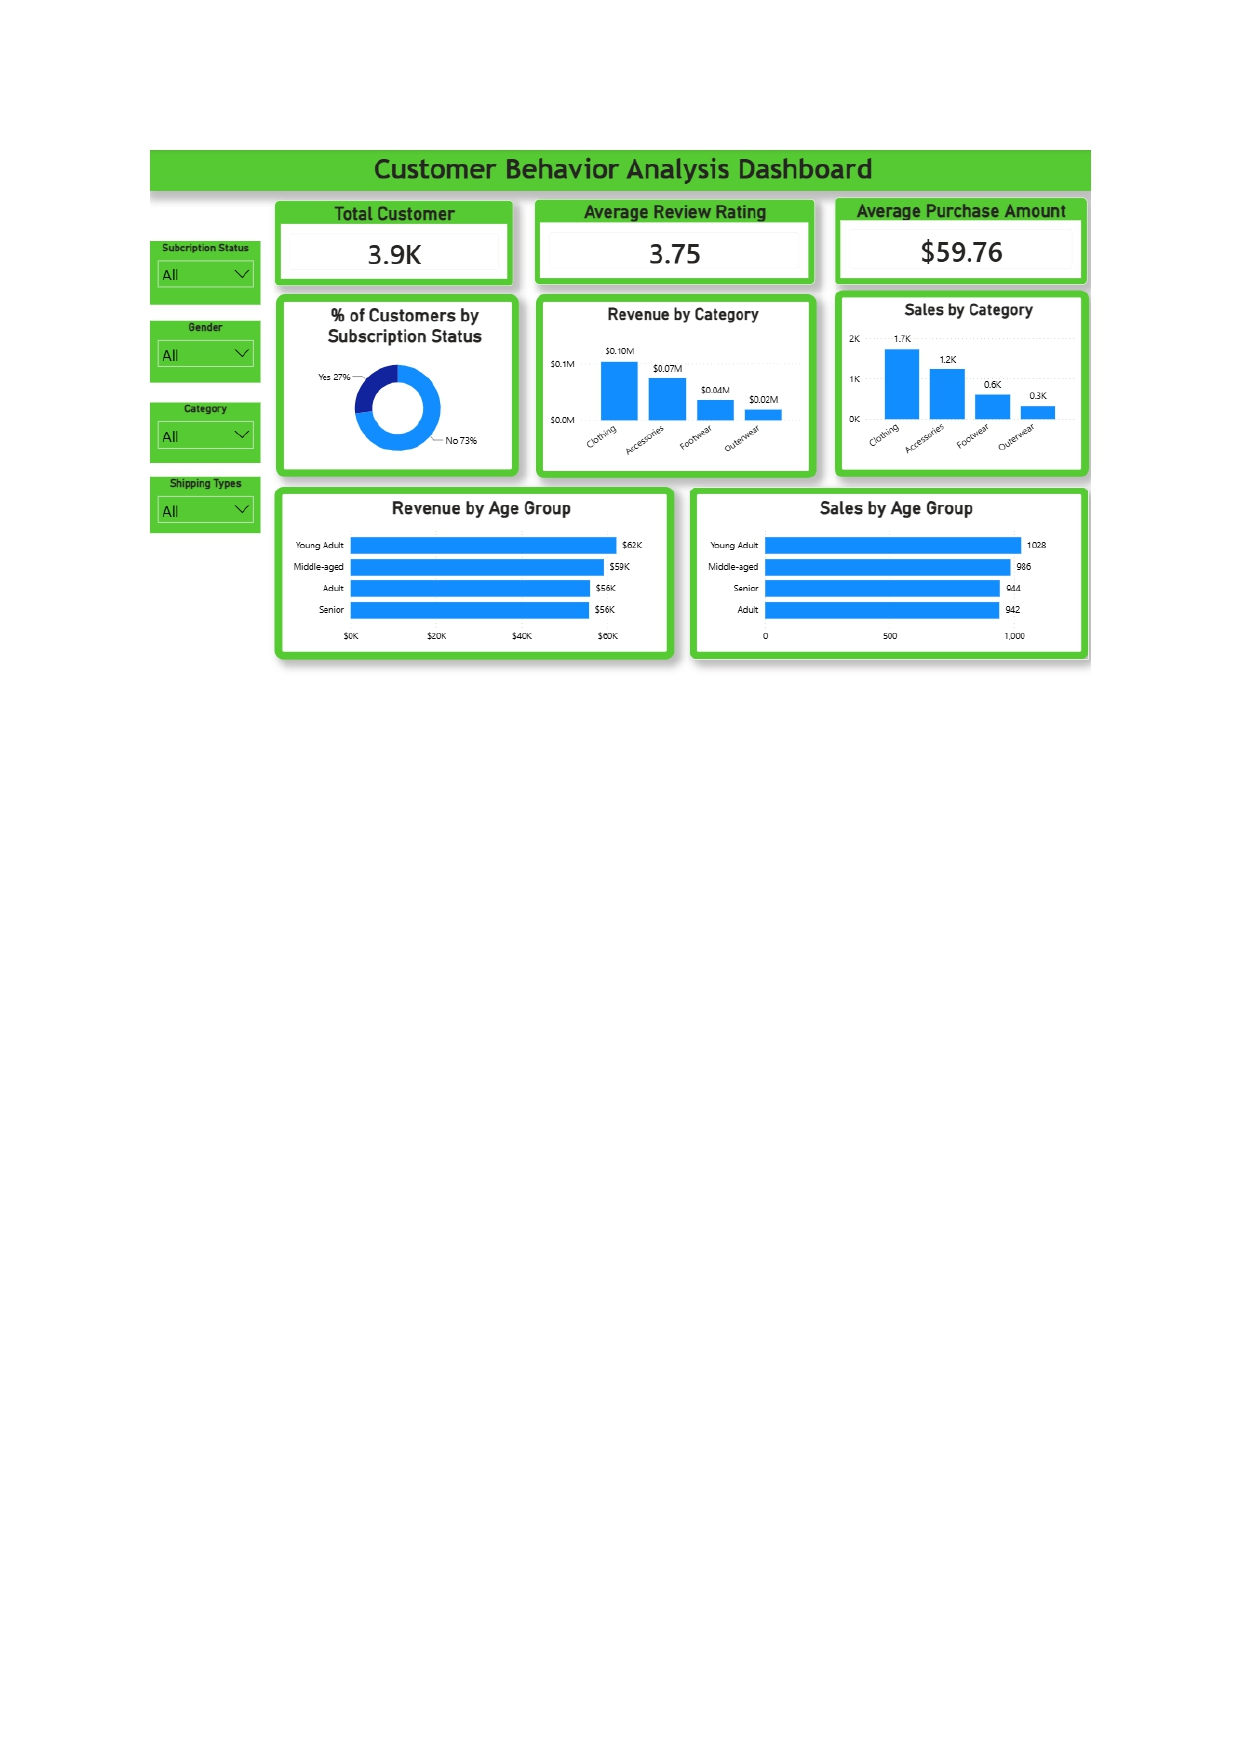

This screenshot's page, from the dashboard's own definition file:
{"tool":"powerbi","page":{"name":"Page 1","canvas":[1280,720],"ordinal":0},"visuals":[{"type":"textbox","box":[0,0,1279.4,56.7],"z":0},{"type":"cardVisual","title":"Total Customer","fields":{"Data":["Count(customer_behavior customer.customer_id)"]},"box":[168.2,69.9,323.2,115.3],"z":1000},{"type":"cardVisual","title":"Average Review Rating","fields":{"Data":["Avg(customer_behavior customer.review_rating)"]},"box":[519.7,68,379.8,115.3],"z":2000},{"type":"cardVisual","title":"Average Purchase Amount","fields":{"Data":["Avg(customer_behavior customer.purchase_amount)"]},"box":[926,66.1,342,117.2],"z":3000},{"type":"donutChart","title":"% of Customers by Subscription Status","fields":{"Category":["customer_behavior customer.subscription_status"],"Y":["CountNonNull(customer_behavior customer.customer_id)"]},"box":[170.1,196.5,328.8,247.6],"z":4000},{"type":"columnChart","title":"Revenue by Category","fields":{"Category":["customer_behavior customer.category"],"Y":["Sum(customer_behavior customer.purchase_amount)"]},"box":[521.6,196.5,379.8,249.5],"z":5000},{"type":"columnChart","title":"Sales by Category","fields":{"Category":["customer_behavior customer.category"],"Y":["CountNonNull(customer_behavior customer.customer_id)"]},"box":[926,190.9,343.9,253.2],"z":6000},{"type":"clusteredBarChart","title":"Revenue by Age Group","fields":{"Category":["customer_behavior customer.age_group"],"Y":["Sum(customer_behavior customer.purchase_amount)"]},"box":[168.2,457.3,540.5,232.4],"z":7000},{"type":"clusteredBarChart","title":"Sales by Age Group","fields":{"Category":["customer_behavior customer.age_group"],"Y":["CountNonNull(customer_behavior customer.customer_id)"]},"box":[729.5,457.3,540.5,232.4],"z":8000},{"type":"slicer","title":"Subcription Status","fields":{"Values":["customer_behavior customer.subscription_status"]},"box":[0,124.7,149.3,85],"z":9000},{"type":"slicer","title":"Gender","fields":{"Values":["customer_behavior customer.gender"]},"box":[0,232.4,149.3,83.2],"z":10000},{"type":"slicer","title":"Category","fields":{"Values":["customer_behavior customer.category"]},"box":[0,342,149.3,81.3],"z":11000},{"type":"slicer","title":"Shipping Types","fields":{"Values":["customer_behavior customer.shipping_type"]},"box":[0,444.1,149.3,75.6],"z":12000}]}

Visuals, with their boxes on the page's 1280x720 design canvas (x1, y1, x2, y2). These are canvas units, not pixel positions in the 1241x1755 screenshot, which may show the page scaled, cropped or inside an application window:
textbox: <box>0,0,1279,57</box>
"Total Customer" cardVisual: <box>168,70,491,185</box>
"Average Review Rating" cardVisual: <box>520,68,900,183</box>
"Average Purchase Amount" cardVisual: <box>926,66,1268,183</box>
"% of Customers by Subscription Status" donutChart: <box>170,196,499,444</box>
"Revenue by Category" columnChart: <box>522,196,901,446</box>
"Sales by Category" columnChart: <box>926,191,1270,444</box>
"Revenue by Age Group" clusteredBarChart: <box>168,457,709,690</box>
"Sales by Age Group" clusteredBarChart: <box>730,457,1270,690</box>
"Subcription Status" slicer: <box>0,125,149,210</box>
"Gender" slicer: <box>0,232,149,316</box>
"Category" slicer: <box>0,342,149,423</box>
"Shipping Types" slicer: <box>0,444,149,520</box>
